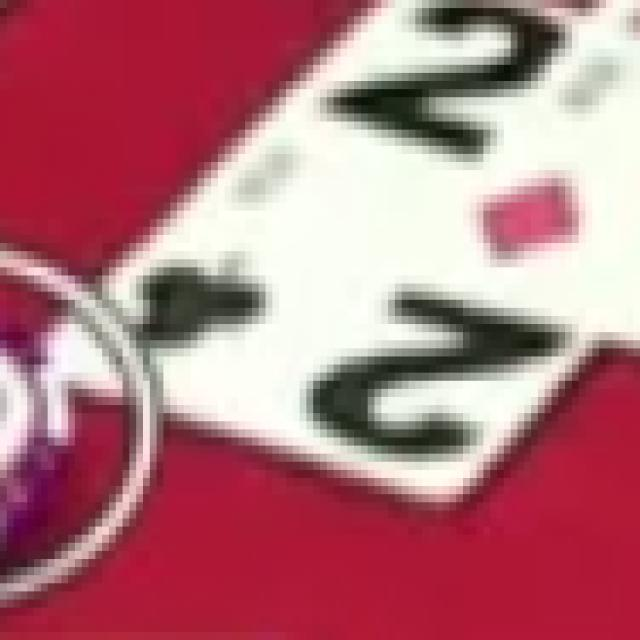Card-2: (44, 77, 603, 510)
